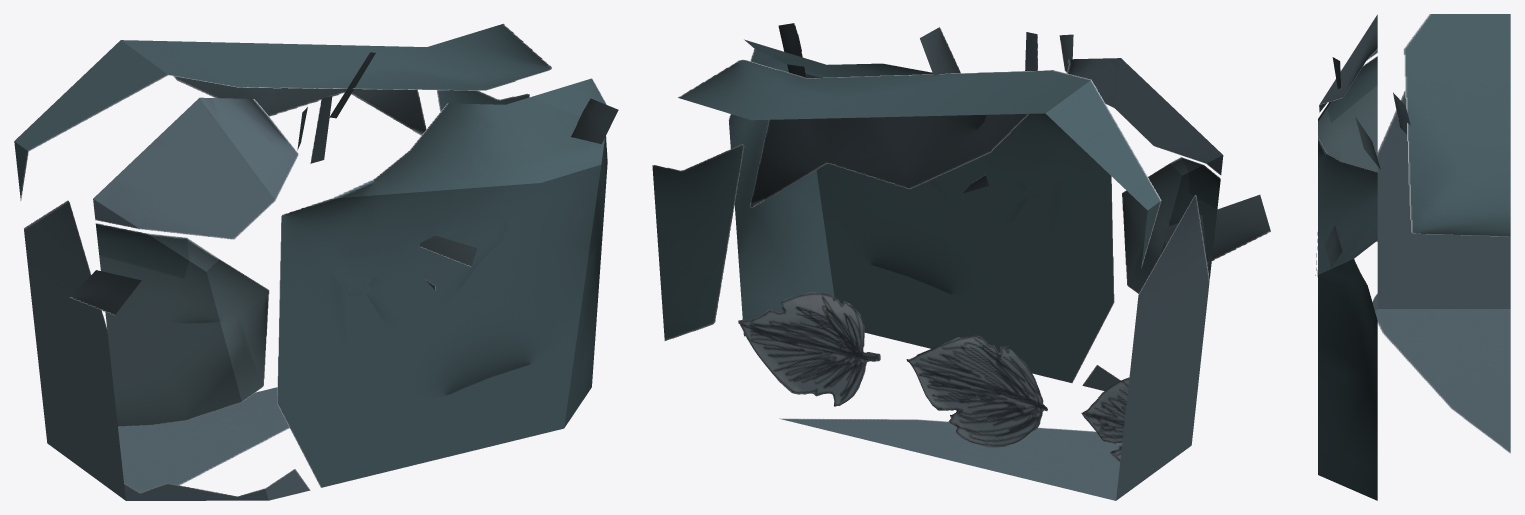
The model's file is Bush_withAnimation.FBX.
The picture shows the model from 3 angles, left to right: view 1: azimuth 30°, elevation 25°; view 2: azimuth 150°, elevation 25°; view 3: azimuth 270°, elevation 25°; orthographic projection. The views are drawn at different scales.
Parts seen in each view (by area): view 1: Bush; view 2: Bush; view 3: Bush.
Boxes of the visible parts, <box> form: Bush: <box>14,23,618,500</box>; Bush: <box>652,23,1270,500</box>; Bush: <box>1315,14,1510,500</box>.
Bounding box in the file's own units: 2.54 × 1.69 × 0.8917.
Materials: 1 (1 with a texture image).
